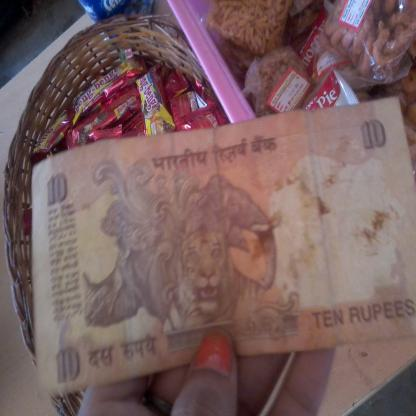Old10Back: (32, 97, 416, 403)
